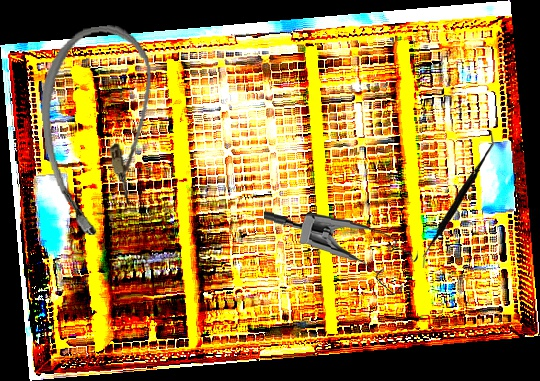Cannula: (31, 20, 171, 240)
Spatula Surgical: (415, 131, 499, 268)
Speculum: (260, 208, 420, 297)
